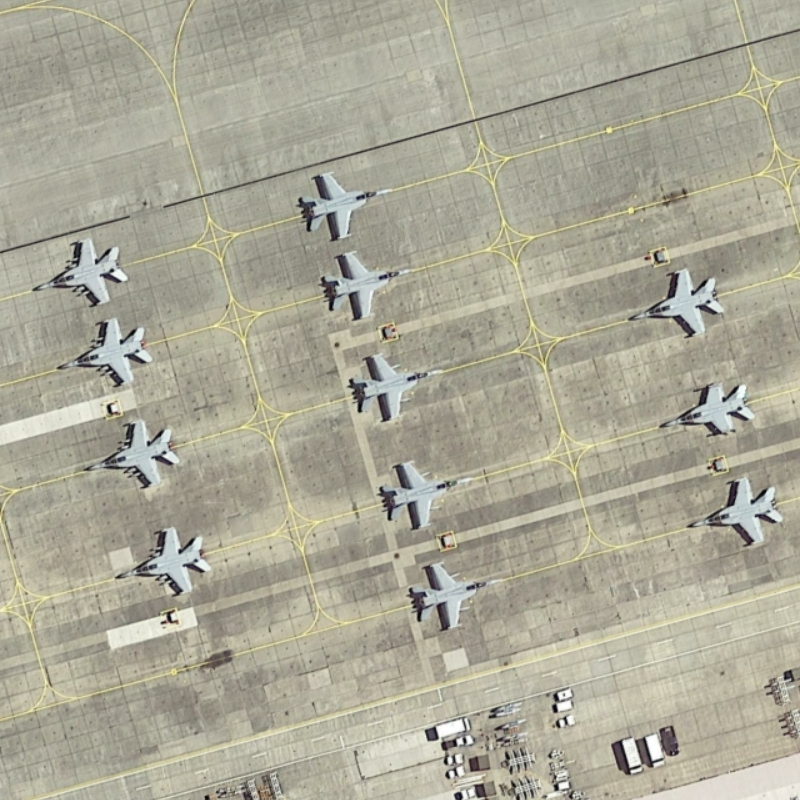A16: (678, 463, 788, 555), (621, 257, 730, 349), (104, 516, 215, 604), (310, 243, 424, 328), (340, 344, 453, 429), (406, 550, 510, 639), (78, 412, 186, 493), (26, 229, 132, 311), (372, 450, 477, 532), (654, 368, 763, 445), (295, 164, 397, 244), (51, 313, 155, 389)
